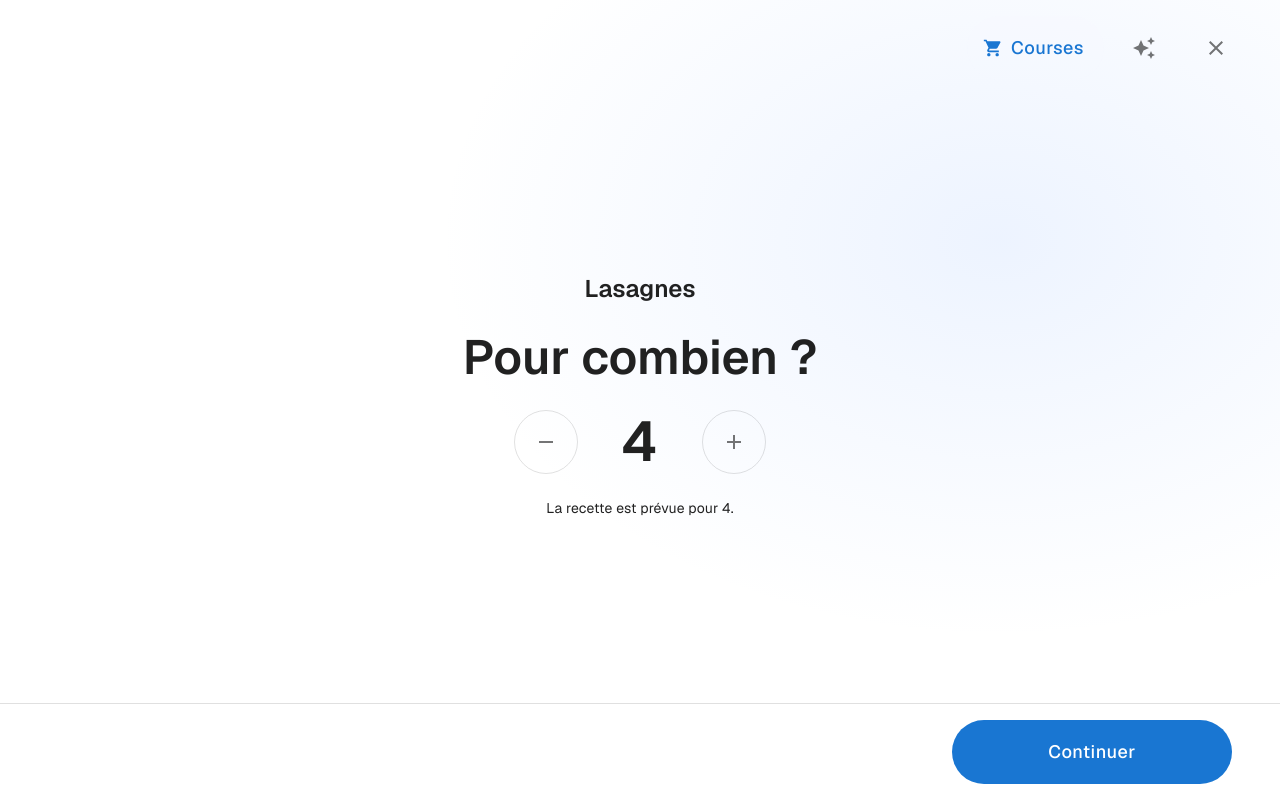
Test: CookingActivityPage › a recipe asks « Pour combien ? » filled with its servings, and 4 → 2 halves the quantities
Expected: the heading "Pour combien ?" is shown, [463, 330, 817, 386]
Expected: the text with test id "cooking-guests-value" reads "4", [622, 404, 658, 478]
Click the button named "Un de moins". click: (546, 442)
box: [514, 410, 578, 474]
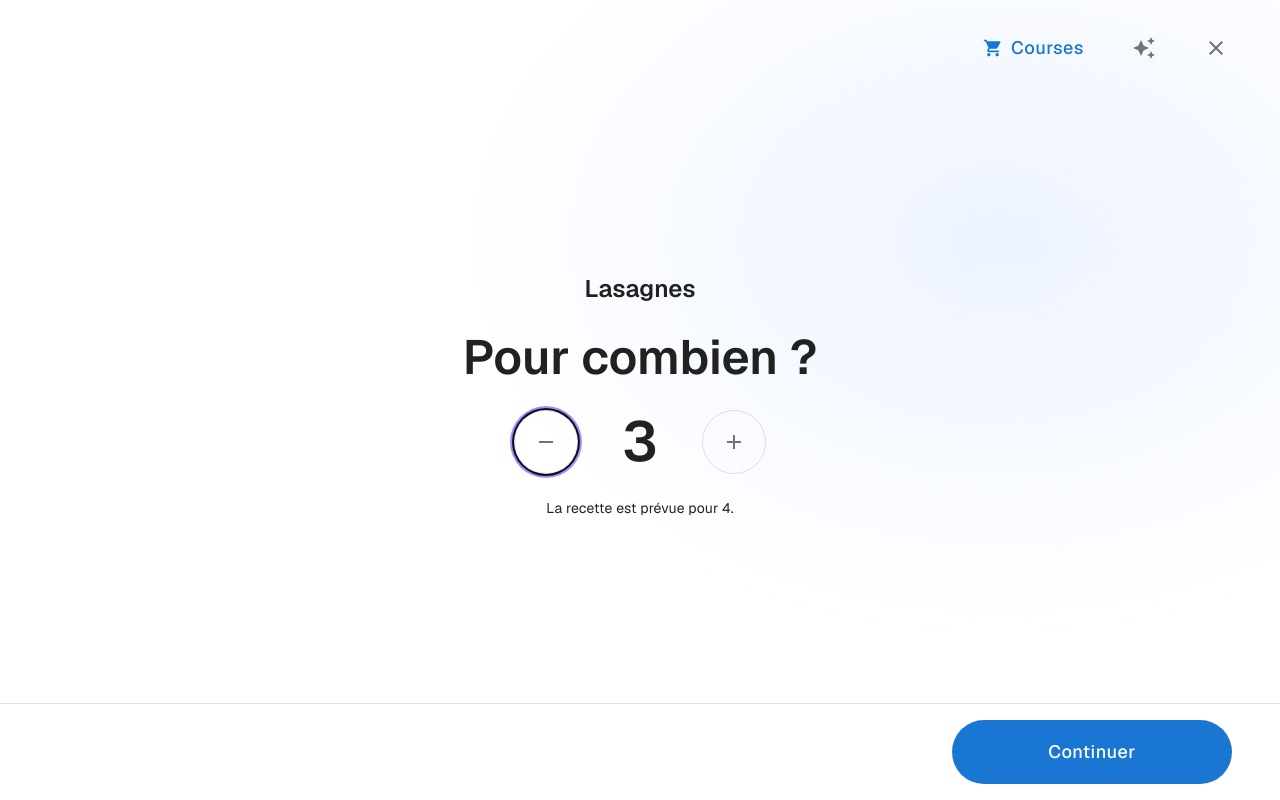
Click the button named "Un de moins". click: (546, 442)
box: [514, 410, 578, 474]
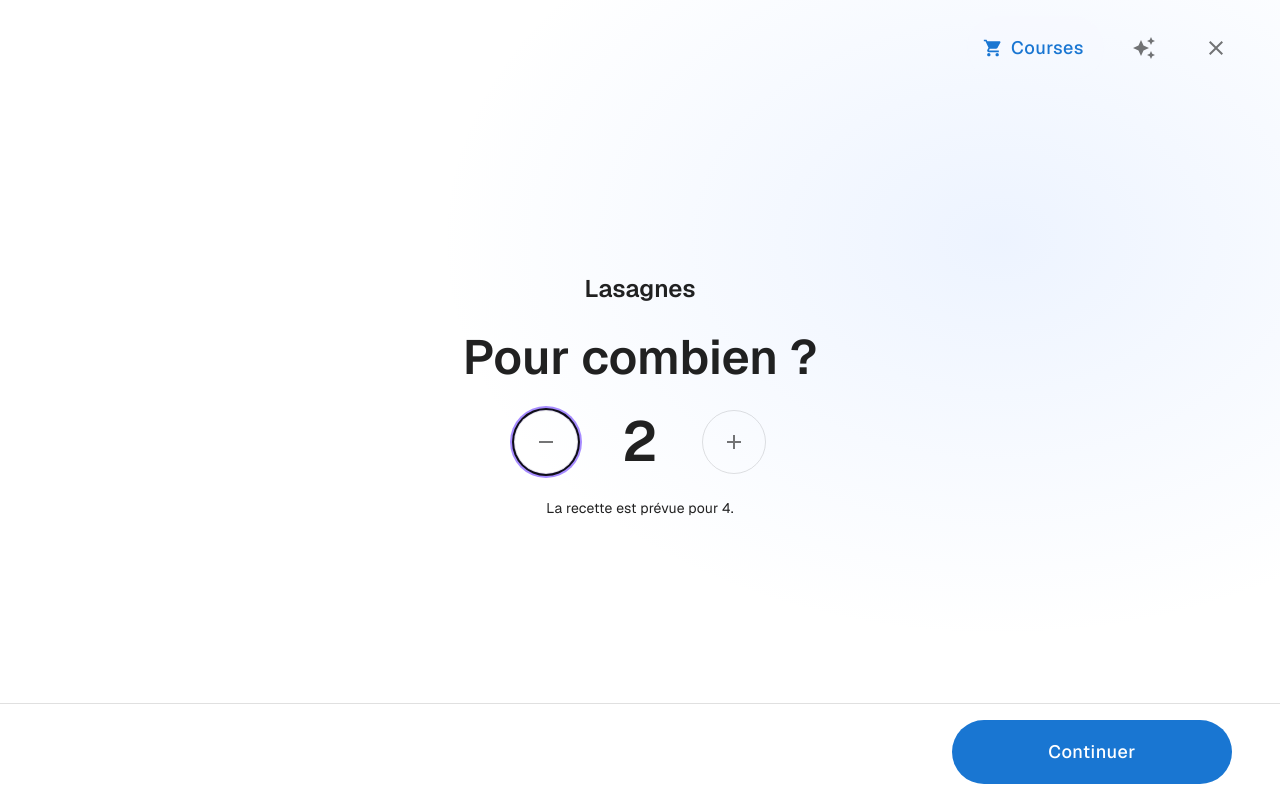
Expected: the text with test id "cooking-guests-value" reads "2", [622, 404, 658, 478]
Click the button "Continuer". click: (1092, 752)
box: [952, 720, 1232, 784]
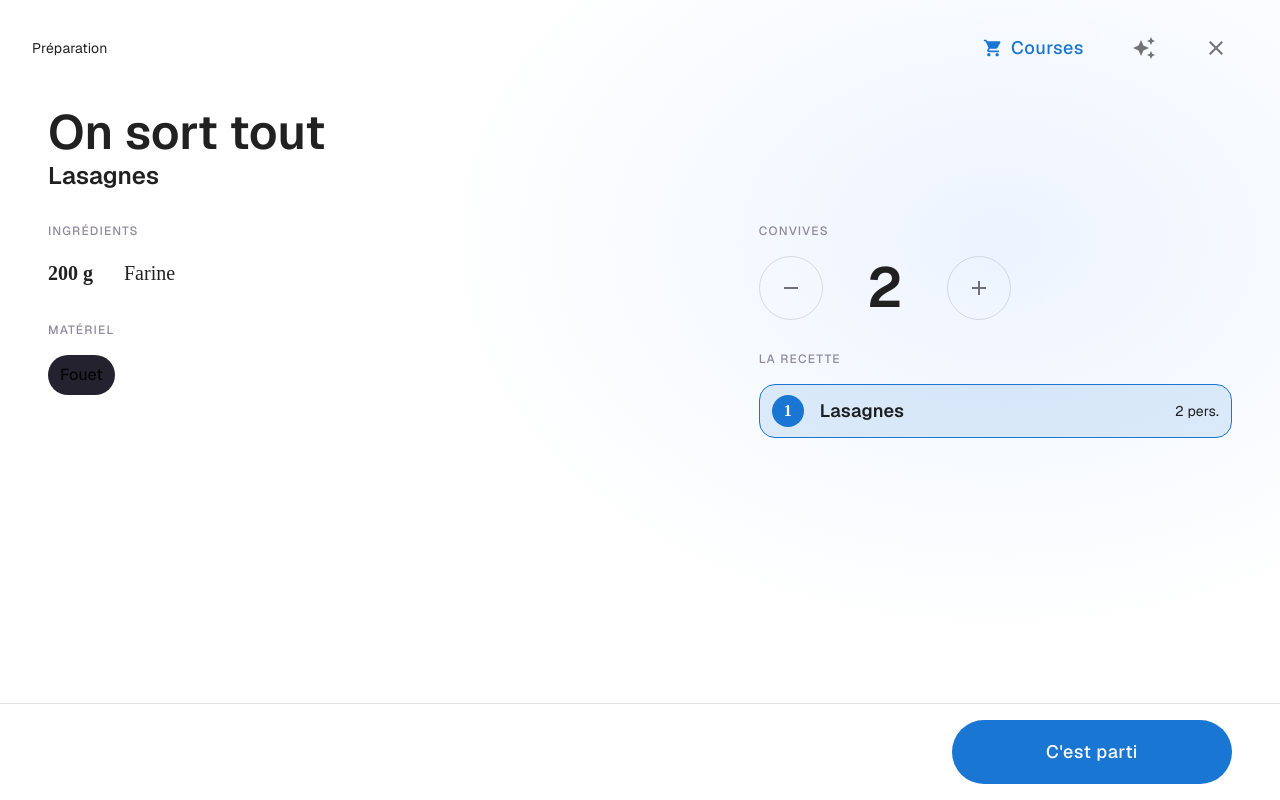
Expected: the list item with test id "cooking-ingredient" shows "200", [48, 262, 93, 284]
